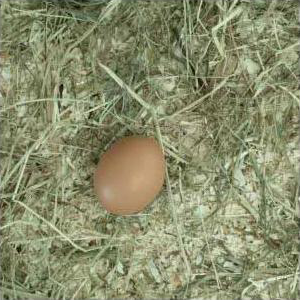egg: (94, 137, 167, 213)
